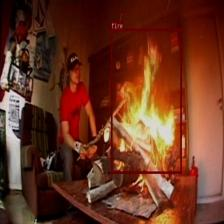fire: (110, 29, 182, 173)
